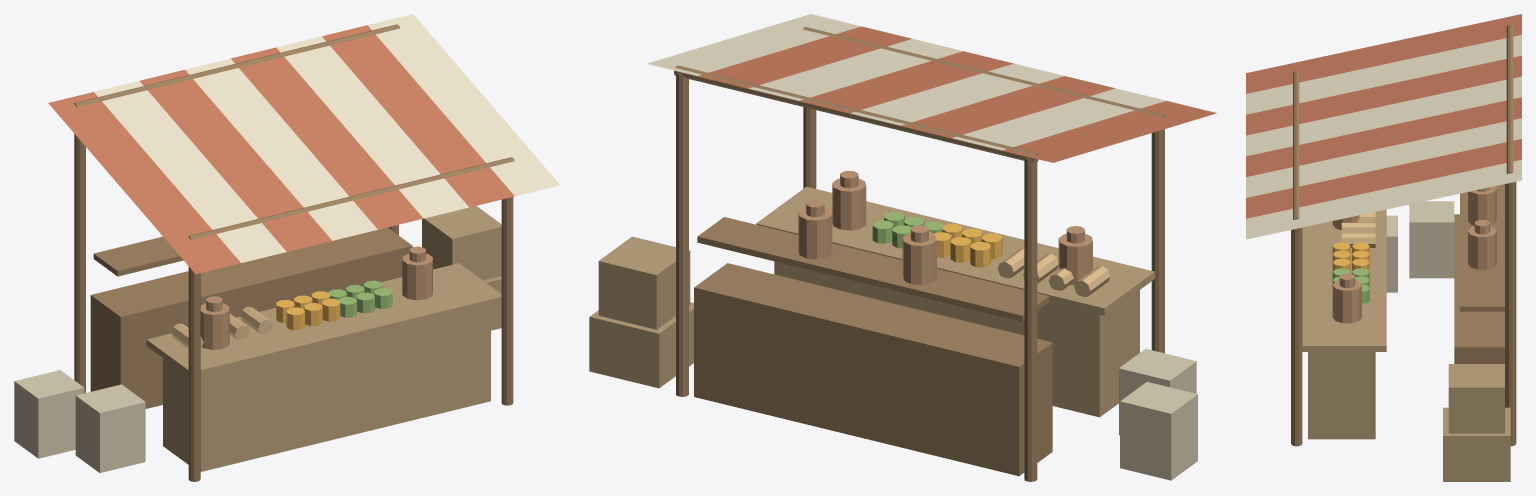
The model's file is village_stall.glb.
3 renders of one model, left to right at view 1: azimuth 30°, elevation 25°; view 2: azimuth 150°, elevation 25°; view 3: azimuth 270°, elevation 25°, orthographic. The views are drawn at different scales.
Parts seen in each view (by area): view 1: counter, awning_red, awning_cream, back_table, frame, sacks, crates, pots, oranges, greens, loaves; view 2: back_table, counter, awning_red, awning_cream, frame, crates, sacks, pots, oranges, loaves, greens; view 3: awning_cream, awning_red, counter, frame, crates, back_table, sacks, pots, oranges, loaves, greens.
Part boxes in pixels (box(x1,y1,x2,y2)): counter: box(146, 263, 501, 471); awning_red: box(48, 25, 514, 273); awning_cream: box(94, 14, 560, 262); back_table: box(90, 227, 412, 408); frame: box(74, 24, 514, 481); sacks: box(14, 370, 145, 472); crates: box(422, 206, 501, 330); pots: box(200, 246, 432, 349); oranges: box(276, 291, 340, 330); greens: box(328, 280, 392, 317); loaves: box(171, 306, 272, 348); back_table: box(694, 217, 1052, 476); counter: box(756, 186, 1154, 417); awning_red: box(697, 26, 1216, 162); awning_cream: box(647, 14, 1166, 150); frame: box(674, 27, 1165, 481); crates: box(589, 236, 693, 388); sacks: box(1119, 348, 1197, 480); pots: box(798, 170, 1092, 285); oranges: box(932, 224, 1002, 267); loaves: box(997, 247, 1110, 296); greens: box(872, 212, 944, 248); awning_cream: box(1246, 35, 1521, 239); awning_red: box(1246, 14, 1521, 218); counter: box(1302, 209, 1386, 439); frame: box(1291, 24, 1516, 446); crates: box(1443, 364, 1510, 481); back_table: box(1454, 184, 1504, 363); sacks: box(1386, 201, 1454, 292); pots: box(1332, 186, 1496, 323); oranges: box(1332, 242, 1369, 271); loaves: box(1341, 212, 1375, 247); greens: box(1332, 268, 1369, 303).
Size of the model in its own units: 4.72 by 2.7 by 2.45.
